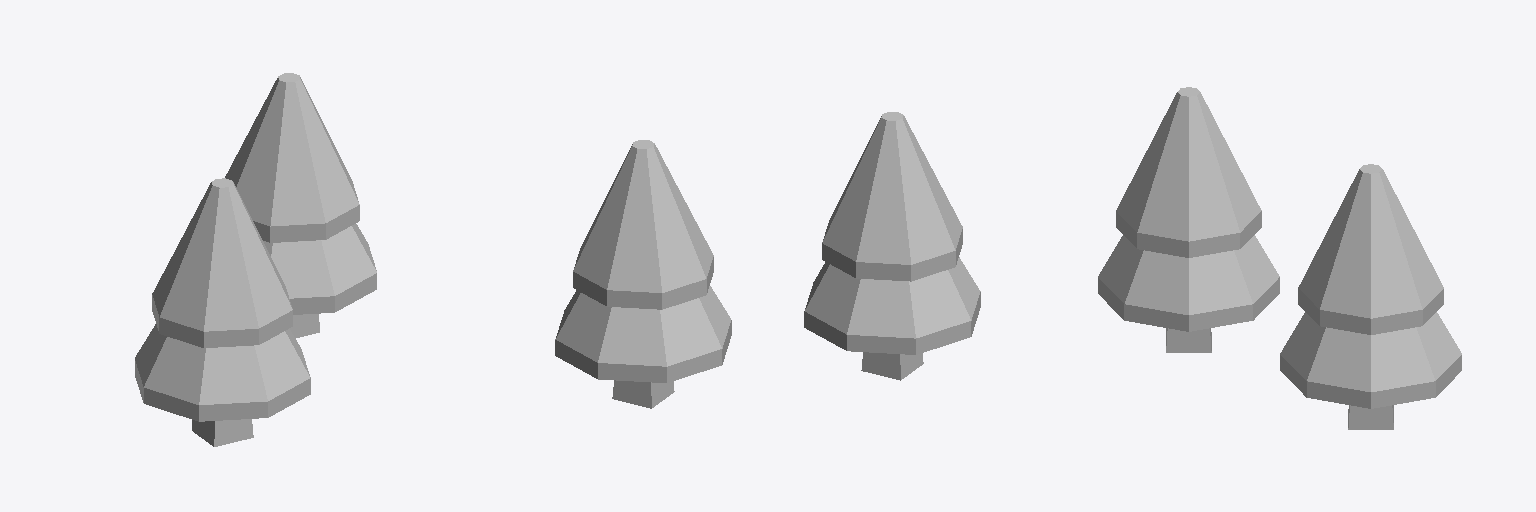
File: TreeDoubleFlatTile.obj
The picture shows the model from 3 angles: view 1: azimuth 30°, elevation 25°; view 2: azimuth 150°, elevation 25°; view 3: azimuth 270°, elevation 25°; orthographic projection.
Visible parts, largest first — view 1: tree.001; view 2: tree.001; view 3: tree.001.
Boxes of the visible parts, <box> form: tree.001: <box>135,73,376,446</box>; tree.001: <box>555,112,980,408</box>; tree.001: <box>1098,87,1461,429</box>.
Bounding box in the file's own units: 1 × 0.76 × 1.